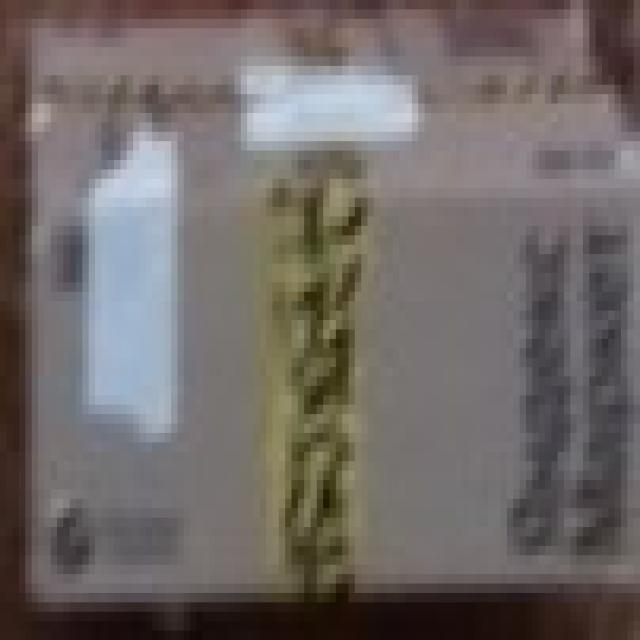boxes: (33, 26, 637, 608)
